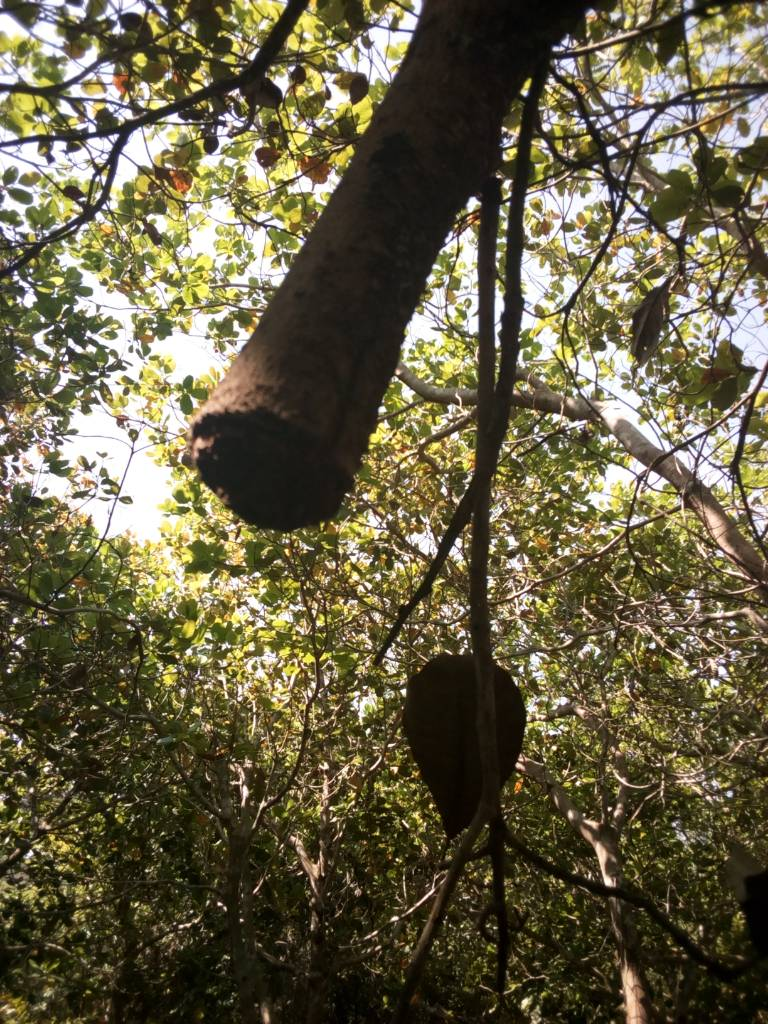Analepse trifasciata: (183, 391, 393, 549)
